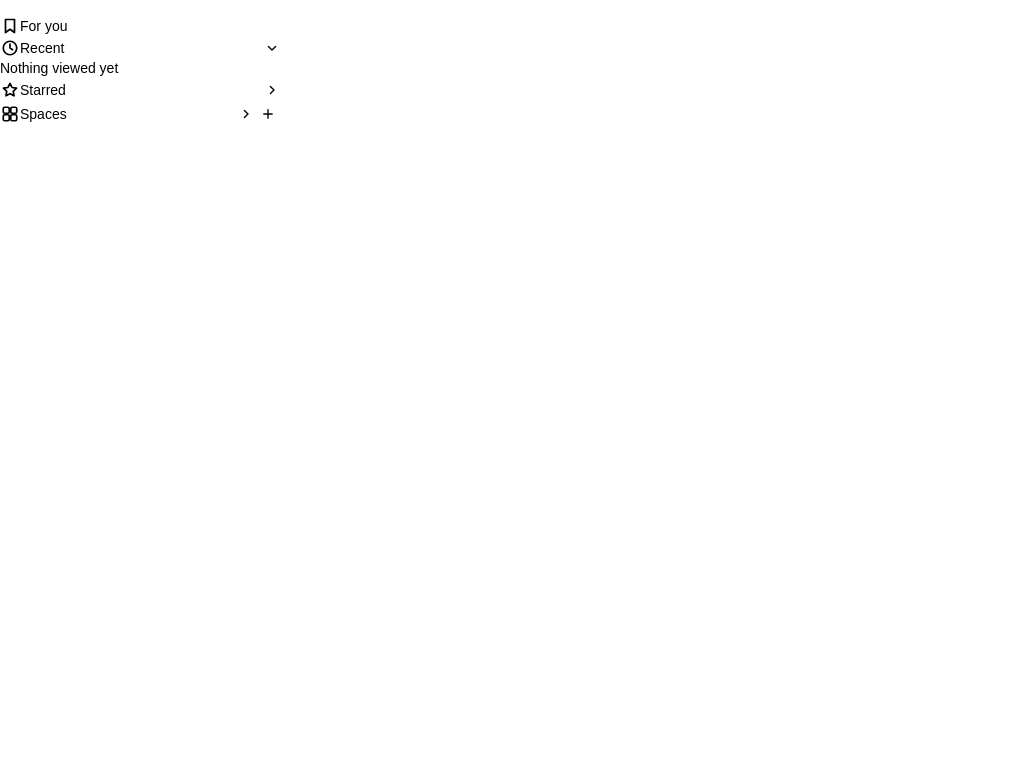
Test: JL-156 deleting from the sidebar › confirms by NAME before deleting
The width and height of the screenshot is (1024, 768).
Click the button "Spaces".
click(127, 114)  # box [0,104,254,124]
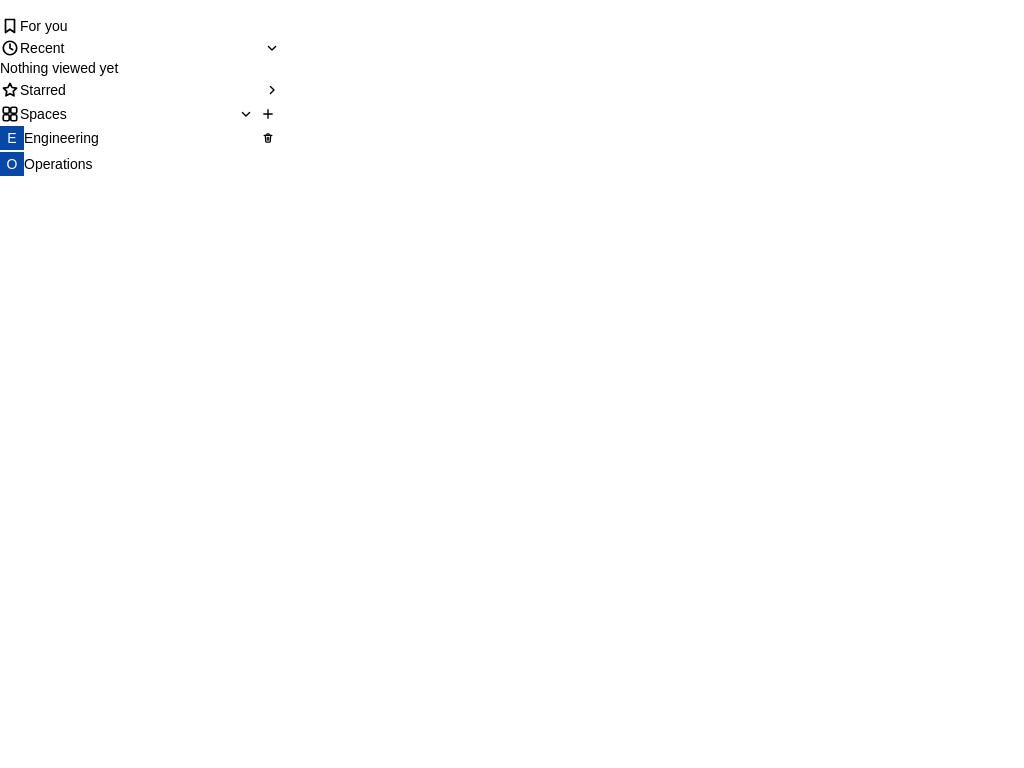
Expected: the button "E Engineering" is shown, [0,126,254,150]
Click the button named "Delete space Engineering".
click(268, 138)  # box [256,126,280,150]
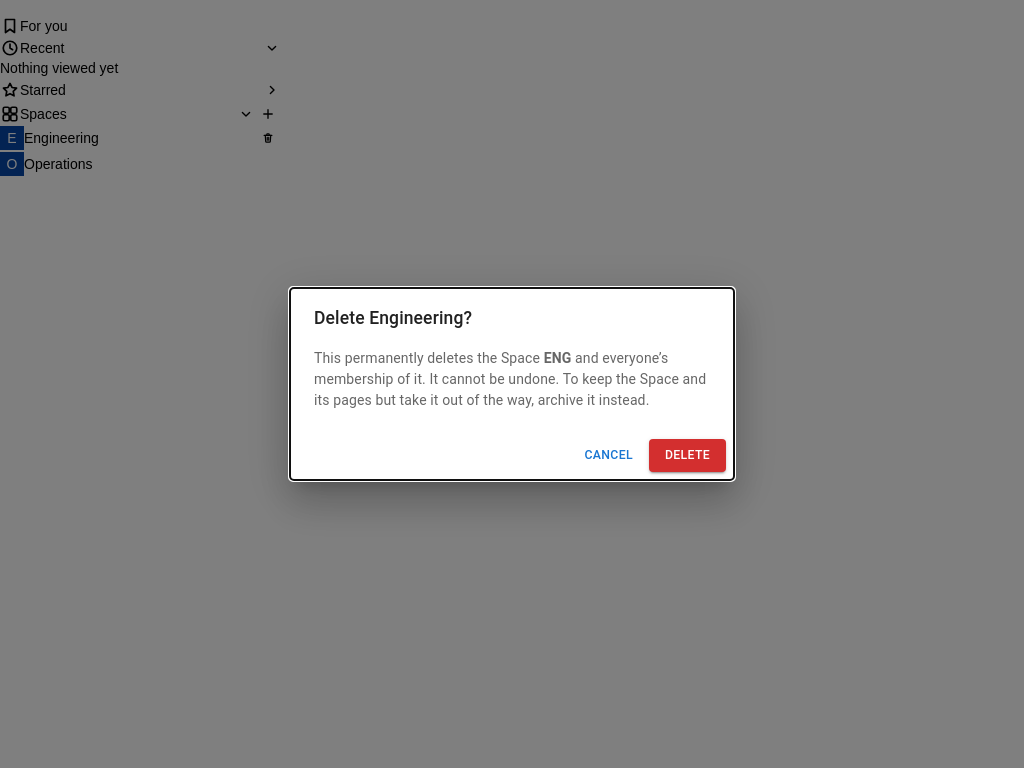
Expected: the heading "Delete Engineering?" is shown, [314,308,472,328]
